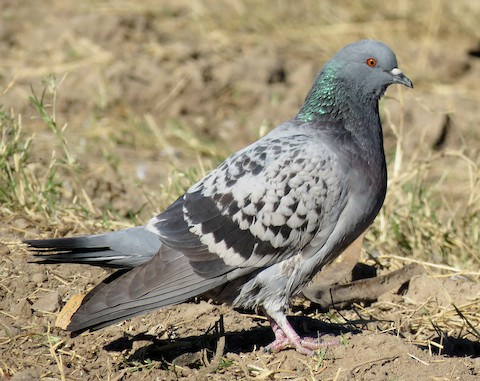pigeon: (23, 38, 415, 359)
